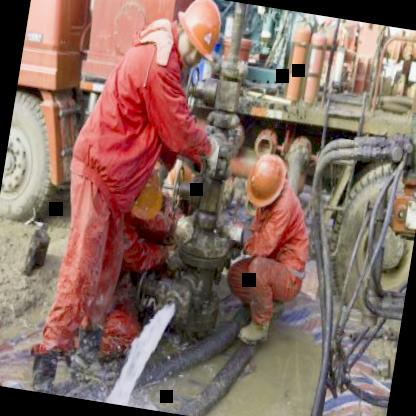helmet: (171, 0, 227, 73), (242, 150, 292, 212)
